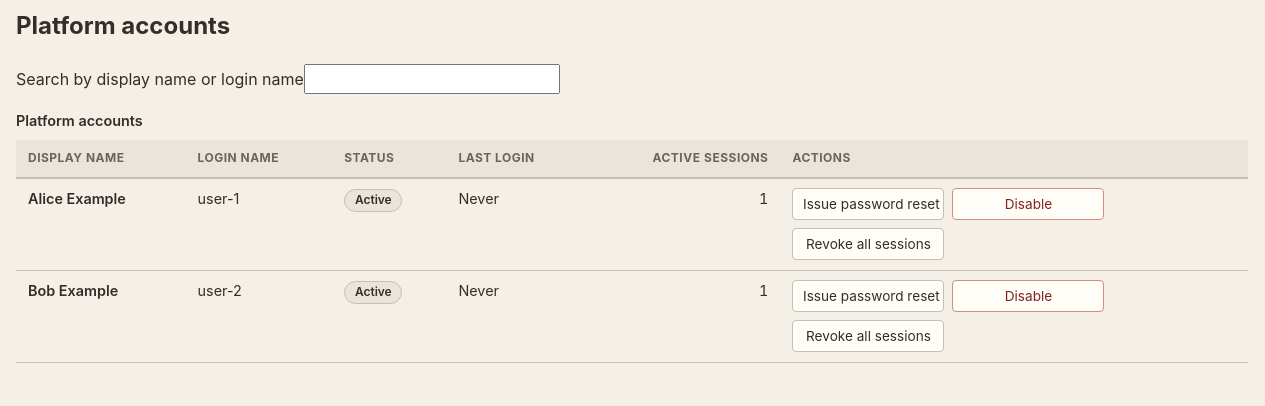
Test: AdminAccountsPage password-reset link › keeps a 403 response non-disclosing
Expected: the text "Alice Example" is shown, [28,190,126,207]
Click the button "Issue password reset" in the row of "Alice Example" at (868, 204), box [792,188,944,220]
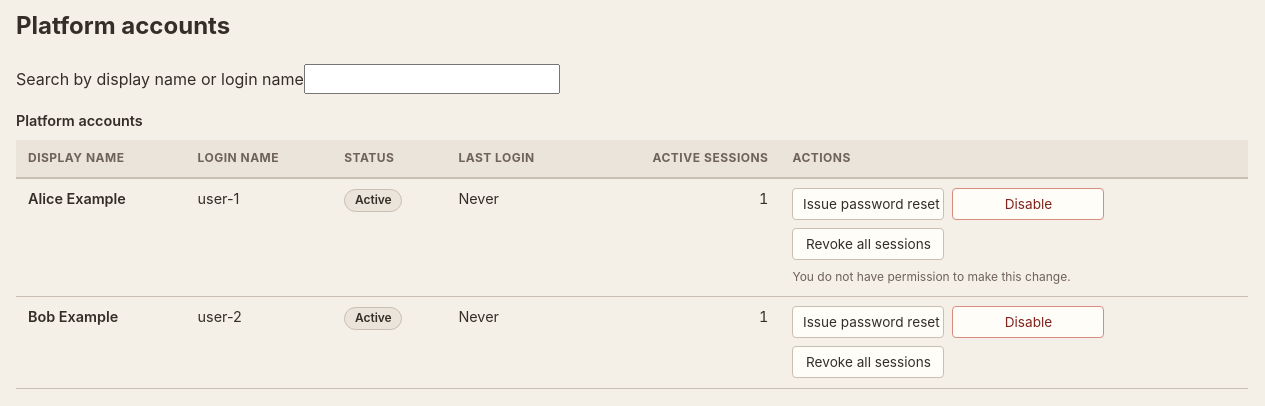
Now the text "You do not have permission to make this change." is shown, box [792,268,1104,286]
